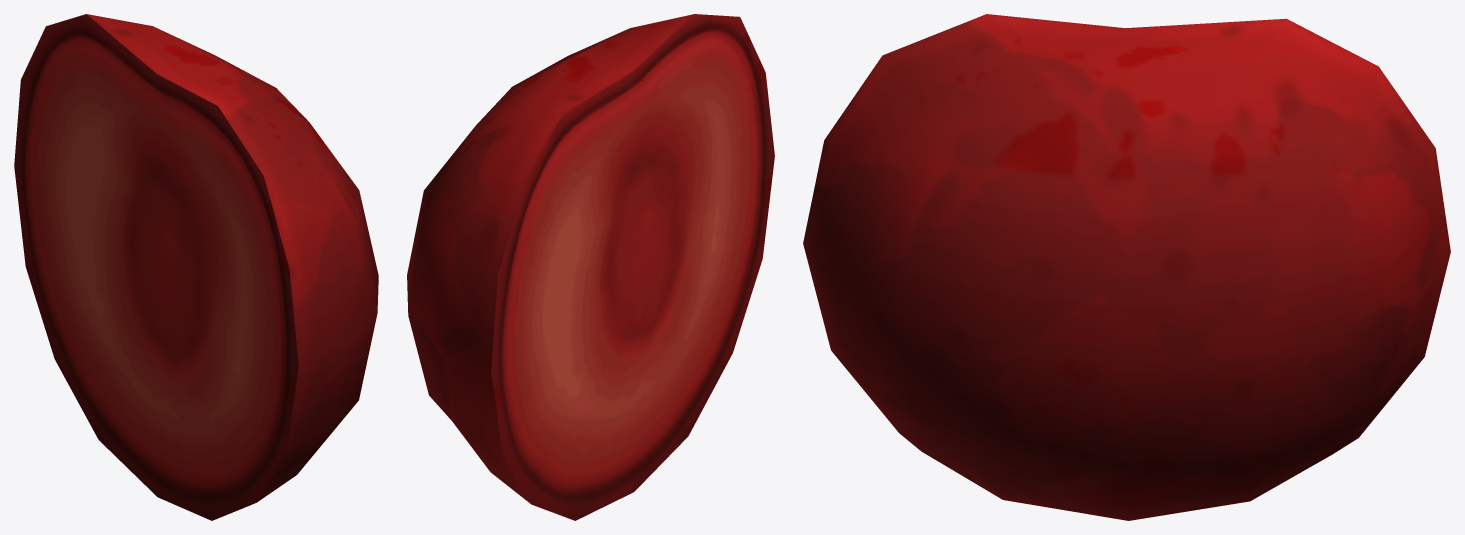
The model's file is SM_CherryCCutB.fbx.
3 views of the same model, side by side, from view 1: azimuth 30°, elevation 25°; view 2: azimuth 150°, elevation 25°; view 3: azimuth 270°, elevation 25° (orthographic). The views are drawn at different scales.
Visible parts, largest first — view 1: SM_CherryCCutB; view 2: SM_CherryCCutB; view 3: SM_CherryCCutB.
Part boxes in pixels (x1,y1,x2,y2): SM_CherryCCutB: (14, 14, 378, 520); SM_CherryCCutB: (407, 14, 774, 520); SM_CherryCCutB: (803, 14, 1450, 520).
Size of the model in its own units: 1.93 by 4.36 by 5.17.
